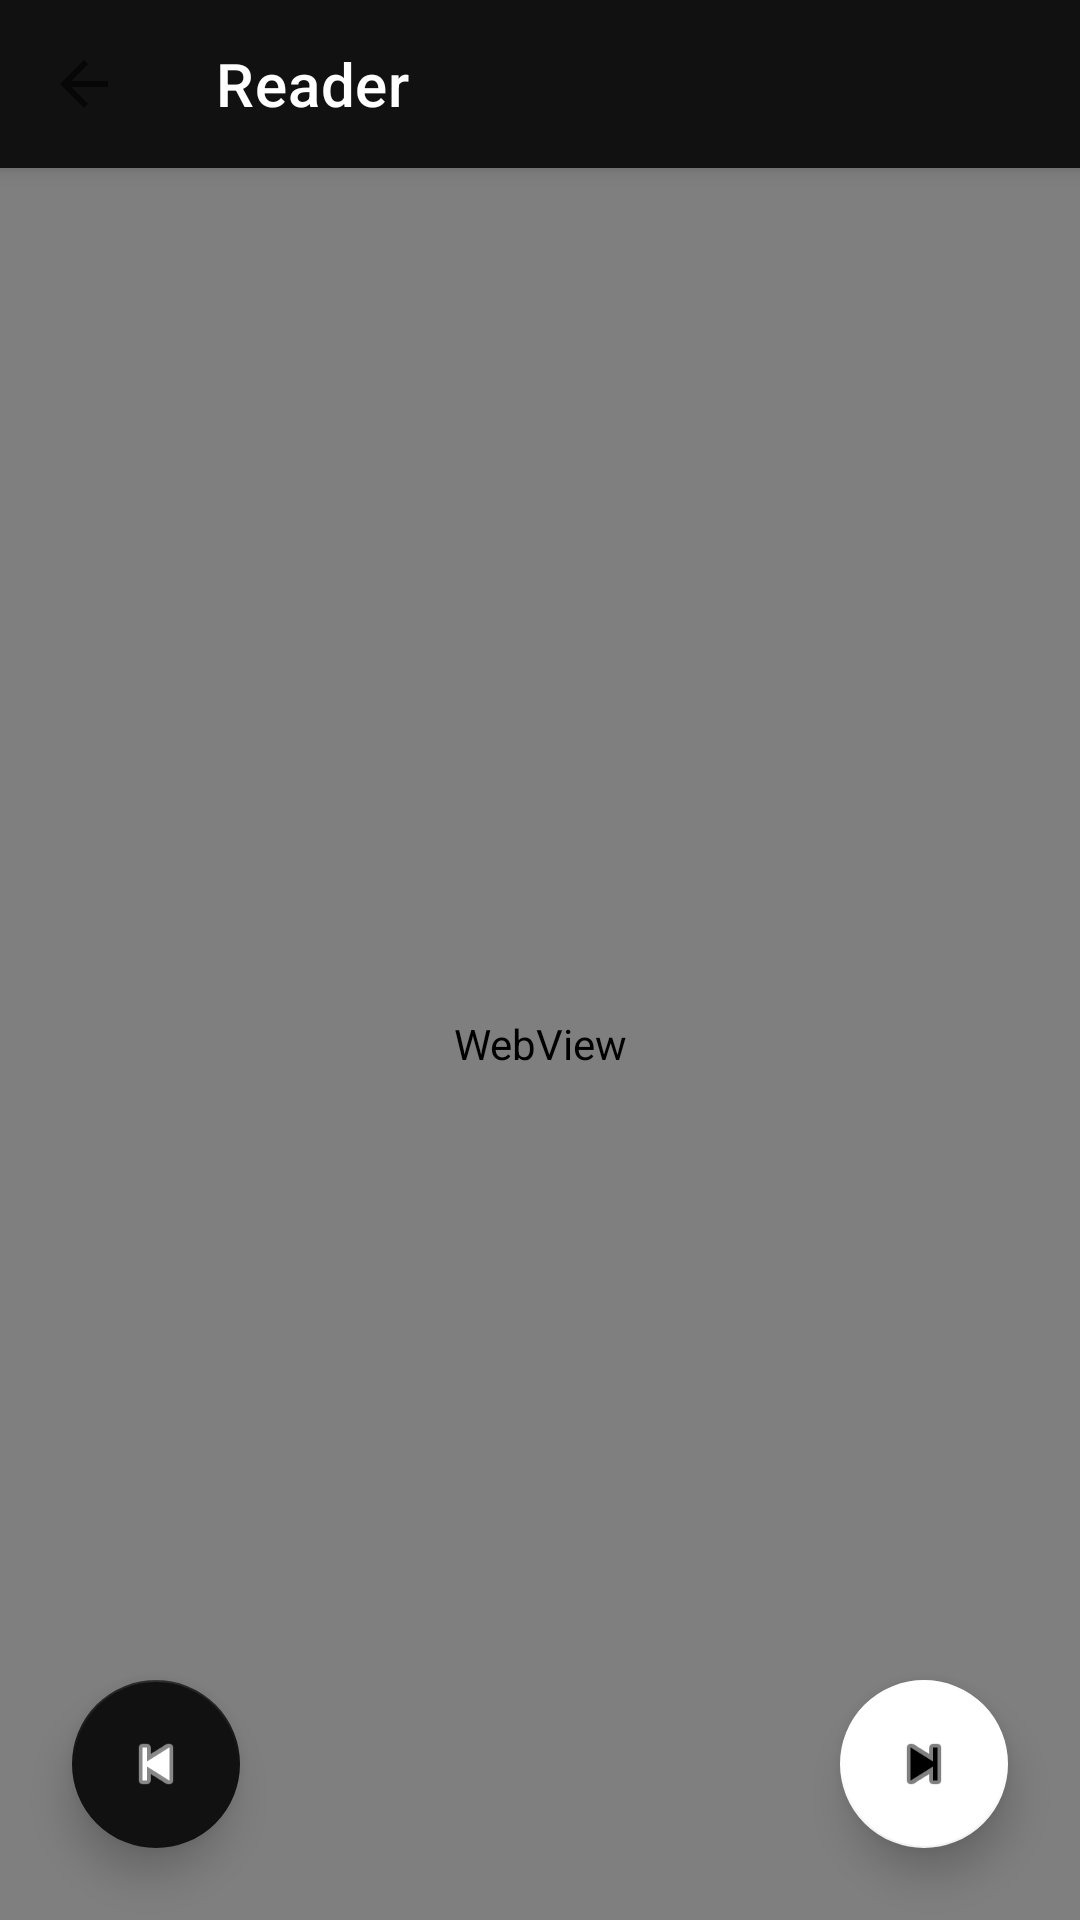

Named icons in this screenshot (1080px x 1920px) and their centers, (x=x, y=y):
Next chapter: (x=924, y=1764)
Previous chapter: (x=156, y=1764)
